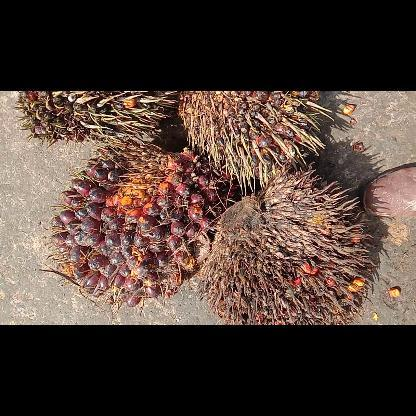TBS abnormal: (197, 172, 371, 322), (180, 90, 330, 182)
Terlalu masak: (48, 144, 216, 310)
